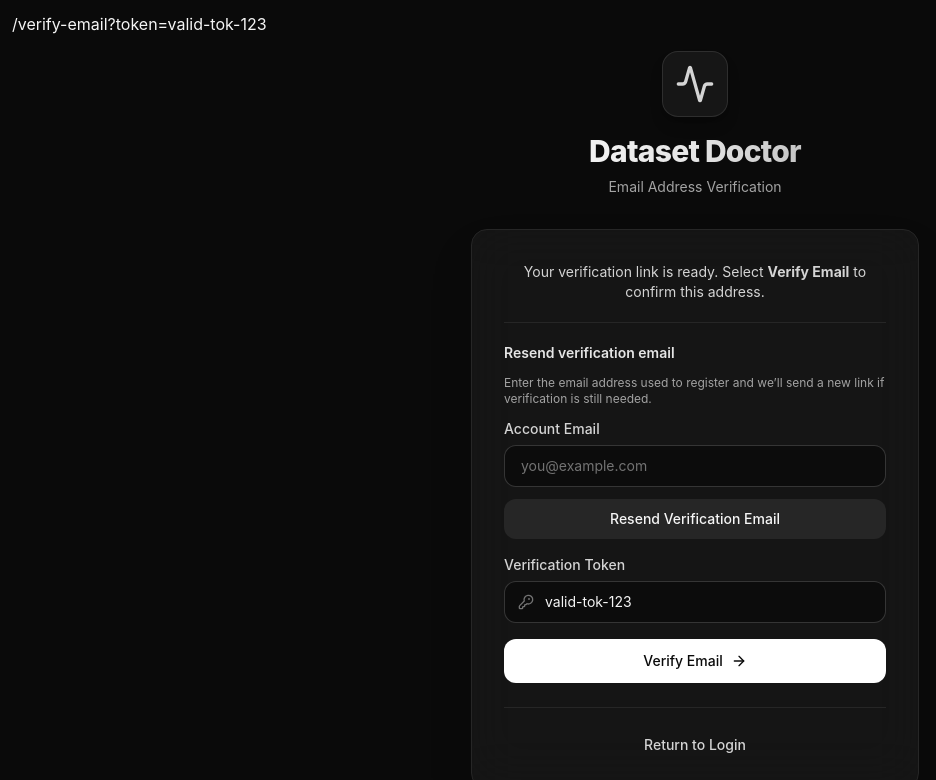
Test case: Frontend Authentication - Pages & Route Guards › requires confirmation for a URL token and removes it from history after success
The width and height of the screenshot is (936, 780).
Expected: the text "Your verification link is ready" is shown, [524,263,768,280]
Click the button "Verify Email": (695, 661) [504,639,886,683]
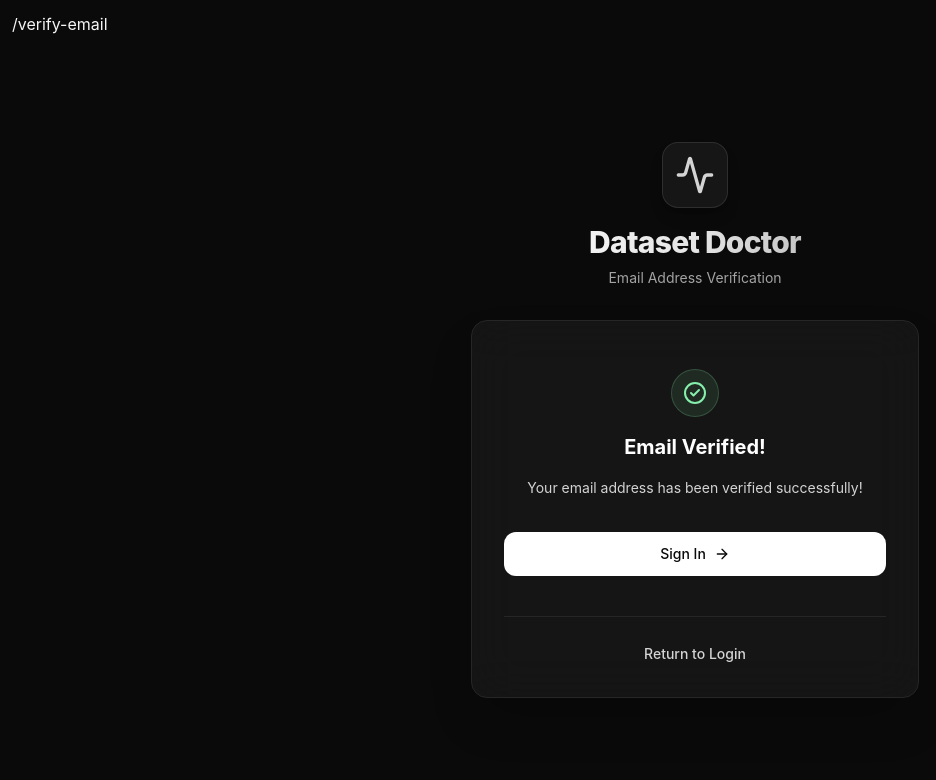
Expected: the text with test id "current-location" reads "/verify-email", [12,14,108,34]
Expected: the heading "Email Verified!" is shown, [624,435,766,459]
